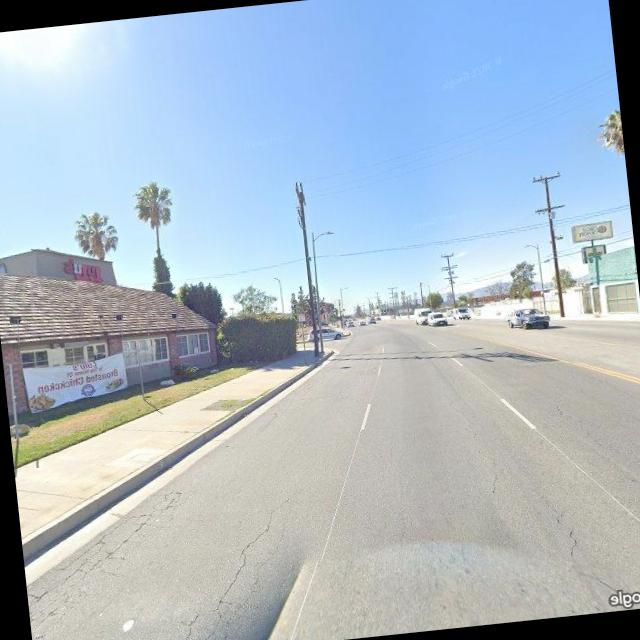crack: (19, 494, 179, 619)
pothole: (171, 487, 316, 640)
